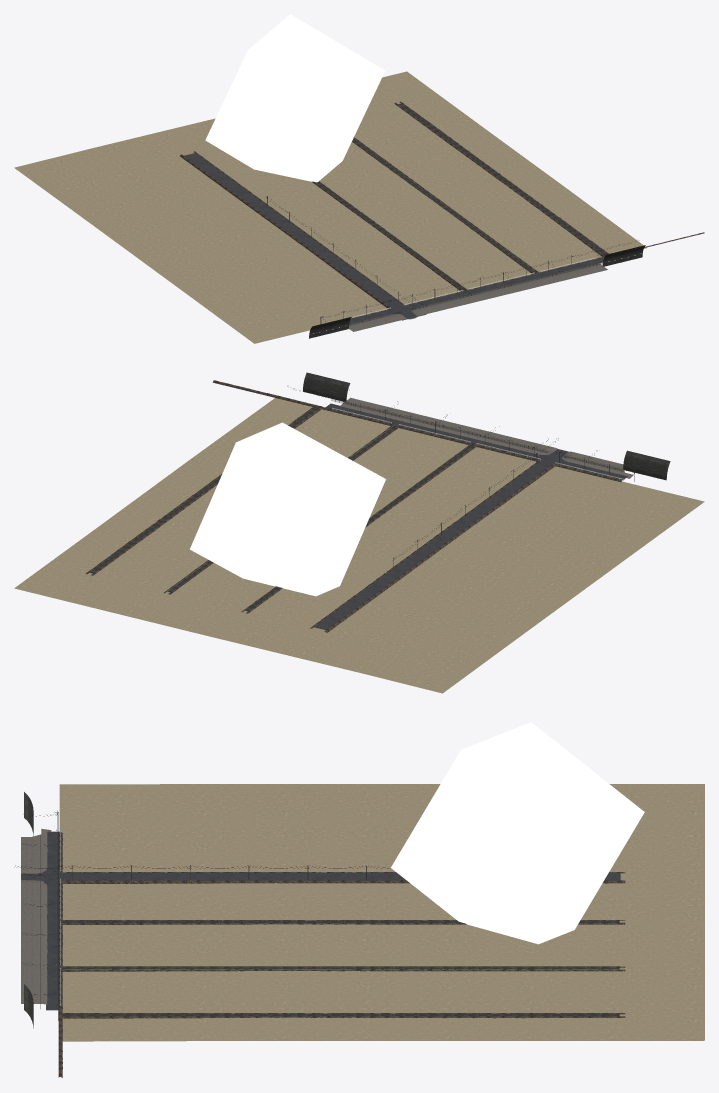
File: extraneous.glb
The picture shows the model from 3 angles, top to bottom: view 1: azimuth 30°, elevation 25°; view 2: azimuth 150°, elevation 25°; view 3: azimuth 270°, elevation 25°; orthographic projection. The views are drawn at different scales.
Visible parts, largest first — view 1: Ground, Thought, Aslphalt, Aslphalt.002, Aslphalt.001, Grass.004, Grass.003, Tunnel, Grass.002, Grass.001; view 2: Ground, Thought, Aslphalt, Aslphalt.001, Tunnel, Aslphalt.002, Grass.004, Grass, Grass.003, Grass.001; view 3: Ground, Thought, Aslphalt.002, Aslphalt, Aslphalt.001, Grass.002, Grass.003, Grass.004, Grass.001, Grass.
Boxes of the visible parts, left/top/right/bottom form: Ground: left=14, top=71, right=646, bottom=343; Thought: left=205, top=14, right=384, bottom=182; Aslphalt: left=184, top=153, right=603, bottom=323; Aslphalt.002: left=315, top=103, right=607, bottom=290; Aslphalt.001: left=348, top=263, right=607, bottom=331; Grass.004: left=180, top=151, right=404, bottom=309; Grass.003: left=394, top=101, right=608, bottom=256; Tunnel: left=309, top=245, right=645, bottom=338; Grass.002: left=352, top=137, right=538, bottom=274; Grass.001: left=312, top=181, right=467, bottom=291; Ground: left=14, top=398, right=704, bottom=693; Thought: left=190, top=422, right=385, bottom=596; Aslphalt: left=314, top=403, right=627, bottom=629; Aslphalt.001: left=340, top=397, right=633, bottom=478; Tunnel: left=303, top=372, right=670, bottom=480; Aslphalt.002: left=89, top=406, right=474, bottom=611; Grass.004: left=309, top=460, right=555, bottom=632; Grass: left=212, top=380, right=622, bottom=481; Grass.003: left=85, top=406, right=321, bottom=575; Grass.001: left=241, top=444, right=476, bottom=613; Ground: left=59, top=784, right=704, bottom=1041; Thought: left=391, top=722, right=644, bottom=944; Aslphalt.002: left=62, top=920, right=619, bottom=1016; Aslphalt: left=21, top=831, right=620, bottom=1010; Aslphalt.001: left=21, top=828, right=51, bottom=1004; Grass.002: left=62, top=966, right=625, bottom=971; Grass.003: left=62, top=1012, right=625, bottom=1018; Grass.004: left=59, top=872, right=625, bottom=883; Grass.001: left=62, top=920, right=625, bottom=925; Grass: left=58, top=832, right=62, bottom=1077.
Bounding box in the file's own units: 293 × 109 × 290.
Materials: 13 (8 with a texture image).
